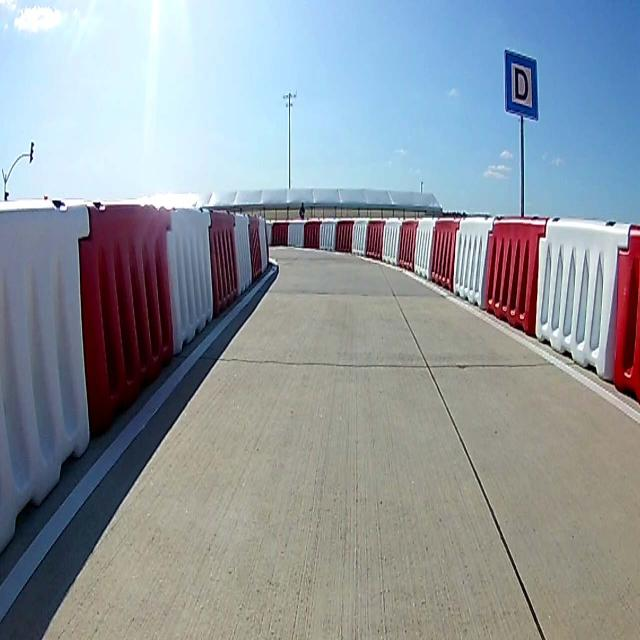durak: (504, 50, 538, 121)
